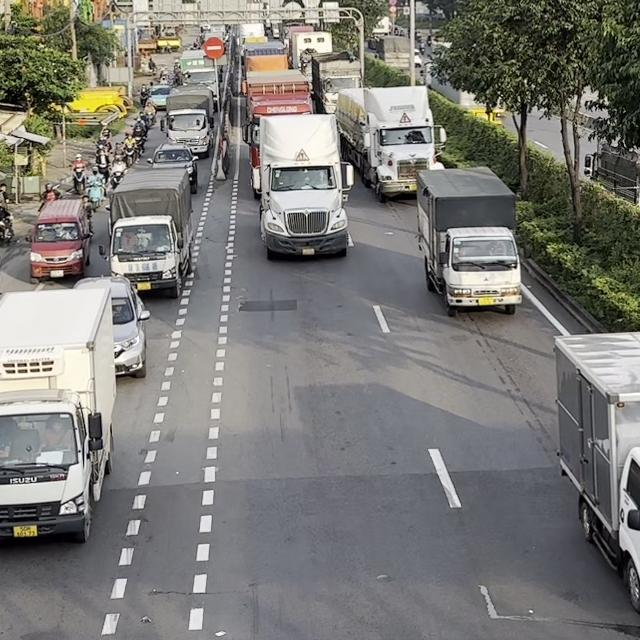car: (72, 274, 150, 378), (145, 141, 199, 194)
motorcycle: (0, 205, 14, 246), (39, 180, 63, 201), (71, 164, 86, 194)
truck: (0, 287, 116, 543), (552, 329, 639, 618), (414, 165, 522, 316), (257, 112, 354, 259), (335, 84, 447, 203), (100, 167, 194, 298), (243, 68, 314, 199), (28, 195, 93, 281), (164, 85, 215, 158), (311, 49, 362, 114), (287, 27, 333, 71)
